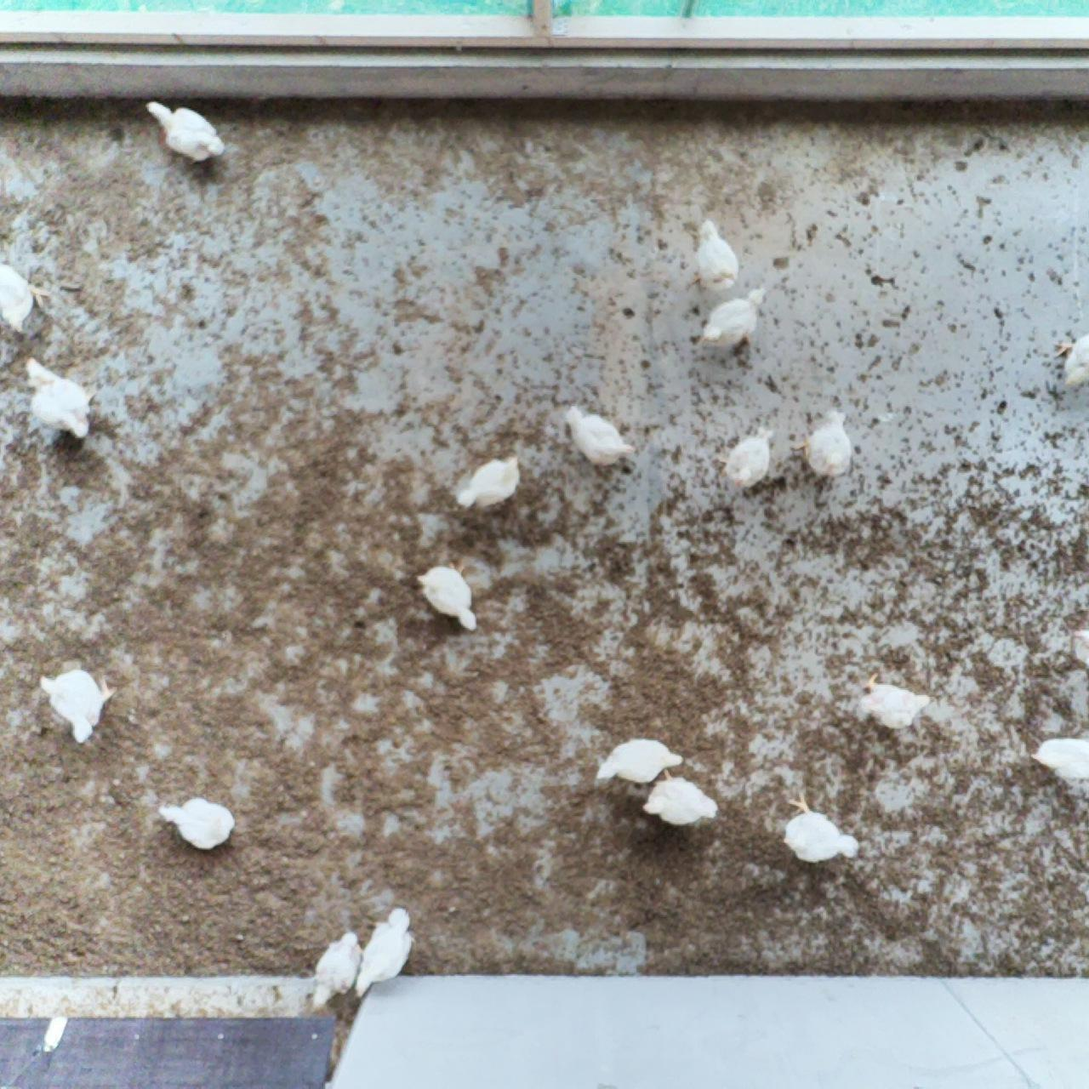chicken: (19, 352, 99, 442), (36, 661, 118, 743), (779, 789, 861, 869), (353, 904, 419, 999), (143, 97, 227, 166), (560, 399, 640, 471), (693, 284, 770, 356), (414, 558, 485, 634), (787, 406, 857, 482), (639, 766, 721, 829), (854, 672, 934, 734), (308, 927, 365, 1014), (595, 735, 687, 787), (680, 216, 740, 295), (716, 421, 777, 498), (158, 792, 235, 852), (454, 454, 525, 515), (0, 258, 51, 335), (1028, 731, 1089, 784), (1050, 330, 1089, 390)
